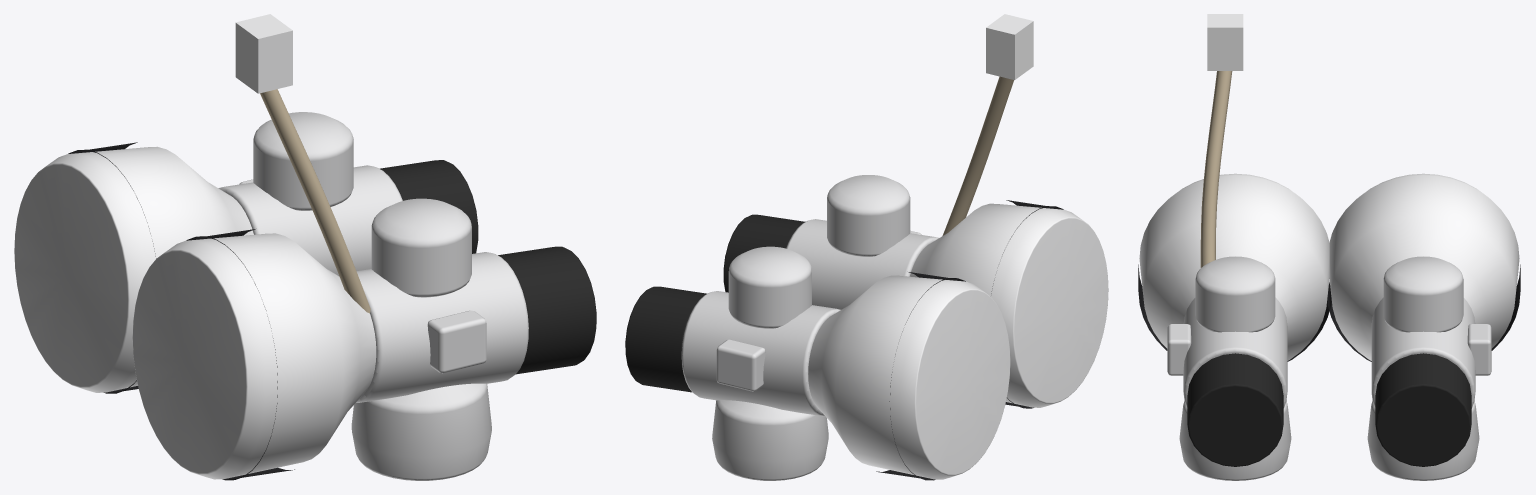
File: bike_classic_4t__carb.glb
3 views of the same model, side by side, from view 1: azimuth 30°, elevation 25°; view 2: azimuth 150°, elevation 25°; view 3: azimuth 270°, elevation 25° (orthographic). The views are drawn at different scales.
Visible parts, largest first — view 1: powertrain__intake__air_filters, powertrain__intake__carburettors, powertrain__intake__manifold_rubbers, powertrain__fuel_system__tap_and_line; view 2: powertrain__intake__air_filters, powertrain__intake__carburettors, powertrain__intake__manifold_rubbers, powertrain__fuel_system__tap_and_line; view 3: powertrain__intake__air_filters, powertrain__intake__carburettors, powertrain__intake__manifold_rubbers, powertrain__fuel_system__tap_and_line.
Part boxes in pixels (x1,y1,x2,y2): powertrain__intake__air_filters: [14, 142, 376, 480]; powertrain__intake__carburettors: [218, 112, 528, 480]; powertrain__intake__manifold_rubbers: [380, 160, 596, 374]; powertrain__fuel_system__tap_and_line: [235, 14, 370, 313]; powertrain__intake__air_filters: [808, 200, 1108, 480]; powertrain__intake__carburettors: [681, 175, 938, 480]; powertrain__intake__manifold_rubbers: [625, 214, 805, 392]; powertrain__fuel_system__tap_and_line: [942, 14, 1033, 235]; powertrain__intake__air_filters: [1138, 173, 1520, 361]; powertrain__intake__carburettors: [1167, 256, 1491, 480]; powertrain__intake__manifold_rubbers: [1187, 353, 1471, 466]; powertrain__fuel_system__tap_and_line: [1200, 14, 1243, 267].
Size of the model in its own units: 17.94 by 20.75 by 19.2.
